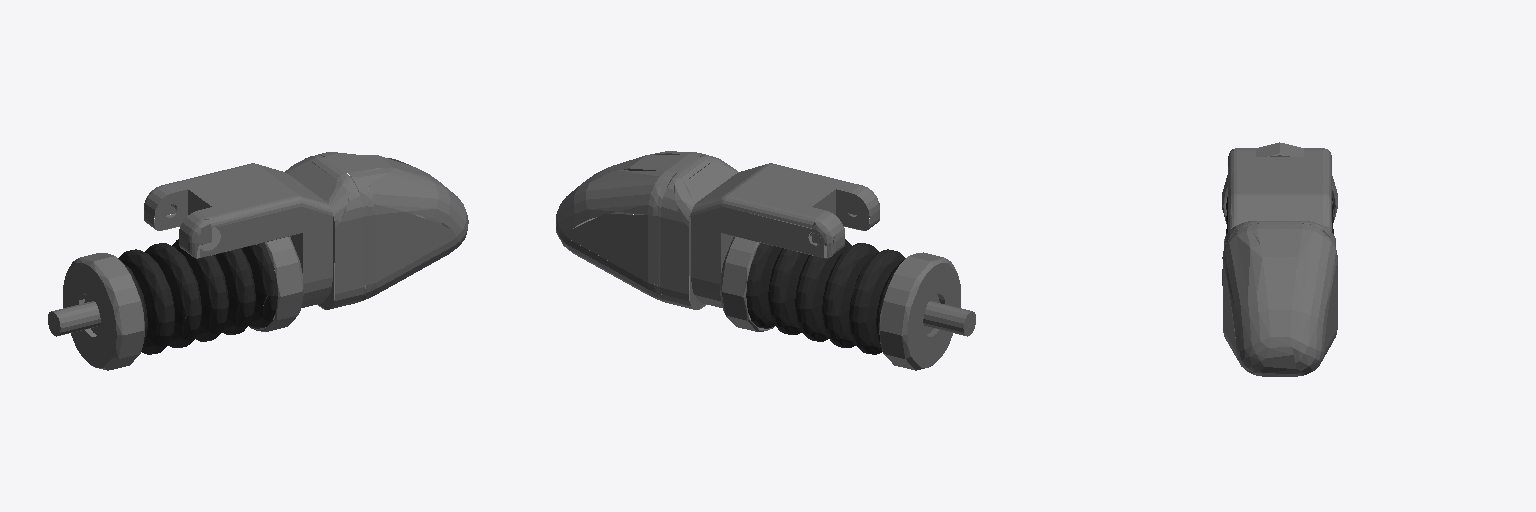
3 views of the same model, side by side, from view 1: azimuth 30°, elevation 25°; view 2: azimuth 150°, elevation 25°; view 3: azimuth 270°, elevation 25° (orthographic).
Size of the model in its own units: 0.0539 by 0.0182 by 0.0135.
Materials: 1 (1 with a texture image).